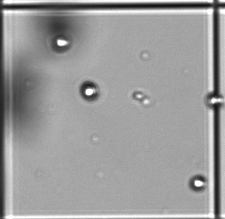Living Cell: (80, 79, 98, 102), (51, 36, 71, 52), (205, 91, 222, 108), (190, 175, 205, 190)
